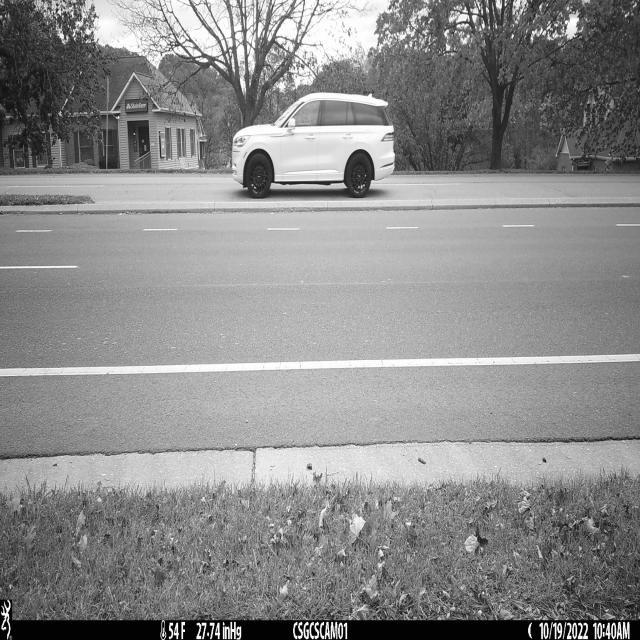SUV: (232, 93, 395, 199)
